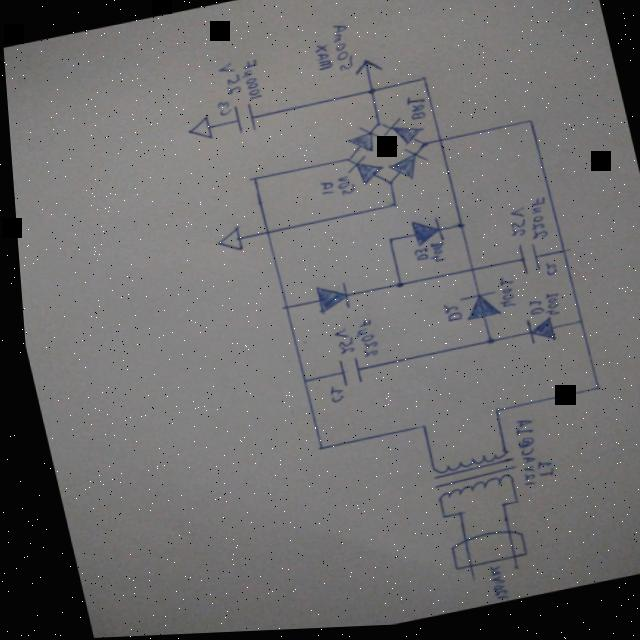capacitor: (328, 356, 360, 391), (231, 103, 256, 136), (513, 246, 537, 279)
crossover: (433, 139, 444, 148), (463, 270, 473, 277), (260, 230, 269, 237)
diode: (383, 147, 431, 186), (306, 279, 349, 318), (382, 112, 426, 149), (453, 292, 497, 326), (343, 155, 385, 190), (343, 125, 384, 158), (520, 317, 554, 350), (407, 218, 442, 249)
ground: (208, 228, 241, 257), (183, 116, 212, 144)
junction: (450, 223, 464, 236), (388, 281, 401, 293), (478, 338, 491, 350), (364, 88, 377, 98), (382, 238, 394, 248), (247, 175, 258, 185), (554, 251, 565, 259), (309, 446, 320, 454), (418, 78, 428, 86), (387, 205, 398, 212), (419, 143, 428, 151), (276, 305, 285, 313), (343, 158, 353, 165), (524, 122, 533, 129), (372, 123, 381, 130), (295, 379, 304, 386), (571, 323, 581, 329), (587, 390, 597, 396), (505, 501, 513, 508), (384, 183, 393, 189), (413, 426, 422, 432), (492, 505, 499, 512), (432, 517, 440, 523), (487, 411, 495, 416), (449, 514, 456, 519)
terminal: (351, 58, 384, 79), (501, 566, 515, 579), (457, 576, 471, 588)
text: (501, 420, 540, 491), (328, 25, 358, 75), (521, 201, 550, 245), (348, 320, 377, 362), (238, 60, 265, 102), (215, 62, 244, 98), (488, 278, 515, 314), (477, 566, 501, 606), (325, 328, 352, 359), (311, 44, 336, 75), (502, 210, 526, 242), (402, 97, 428, 125), (536, 294, 559, 320), (333, 175, 355, 201), (437, 303, 460, 327), (423, 243, 445, 268), (528, 462, 549, 483), (321, 386, 341, 407), (314, 181, 335, 199), (521, 302, 540, 321), (214, 99, 233, 118), (408, 250, 427, 265), (539, 264, 555, 281)
transformer: (420, 451, 516, 505)
